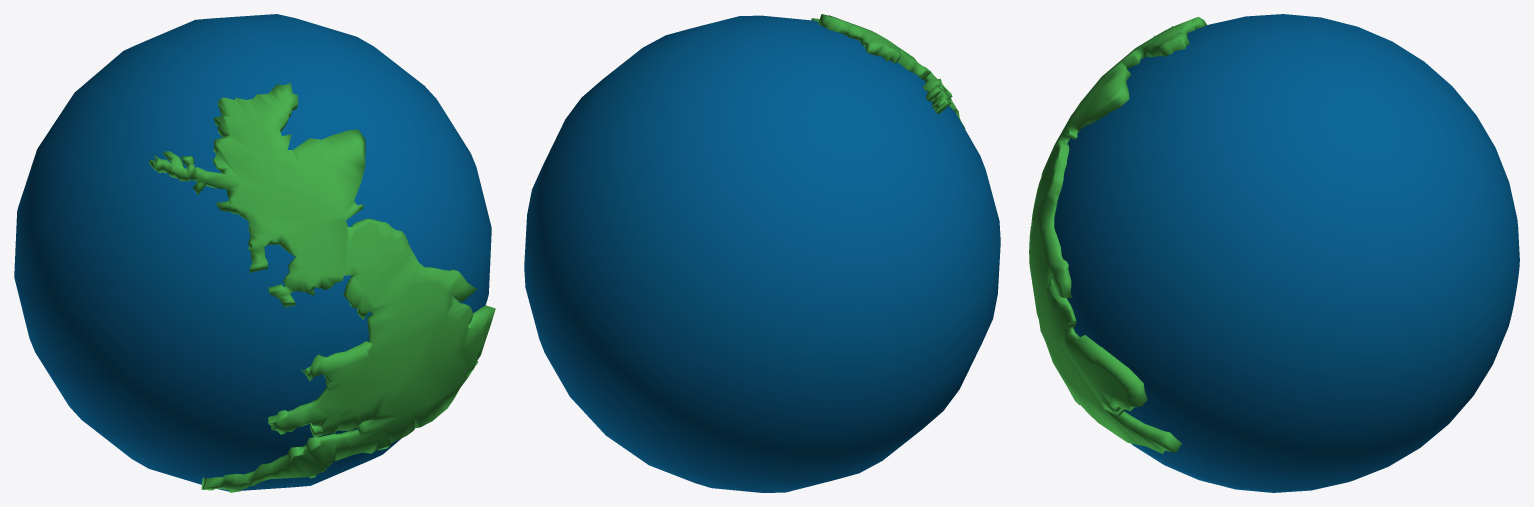
File: Earth 5-20-230pm.fbx
3 renders of one model, left to right at view 1: azimuth 30°, elevation 25°; view 2: azimuth 150°, elevation 25°; view 3: azimuth 270°, elevation 25°, orthographic.
Visible parts, largest first — view 1: Ocean, World; view 2: Ocean, World; view 3: Ocean, World.
Part boxes in pixels (x1,y1,x2,y2): Ocean: (14,14,491,491); World: (149,83,495,492); Ocean: (524,15,1000,492); World: (811,14,965,128); Ocean: (1054,14,1519,492); World: (1029,17,1206,453).
Bounding box in the file's own units: 18.62 × 18.61 × 18.92.
